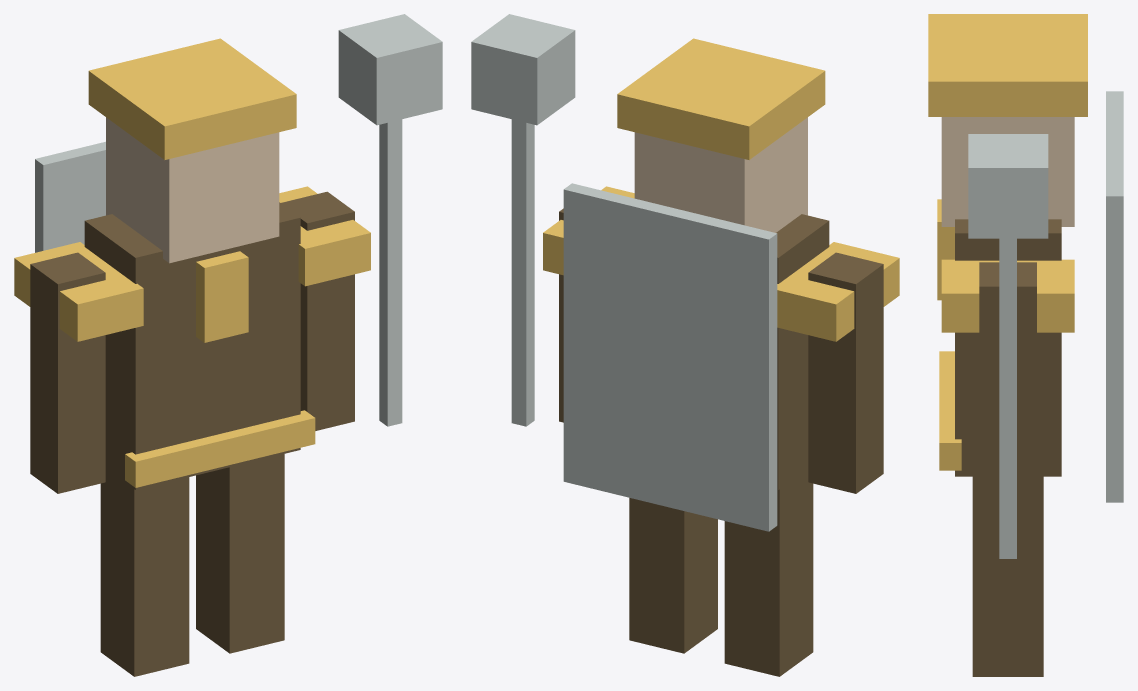
File: 13_thorne_mossguard_captain_under_adaptive.glb
3 views of the same model, side by side, from view 1: azimuth 30°, elevation 25°; view 2: azimuth 150°, elevation 25°; view 3: azimuth 270°, elevation 25° (orthographic). The views are drawn at different scales.
Parts seen in each view (by area): view 1: Thorne Mossguard, Captain under Adaptive; view 2: Thorne Mossguard, Captain under Adaptive; view 3: Thorne Mossguard, Captain under Adaptive.
Part boxes in pixels (x1,y1,x2,y2): Thorne Mossguard, Captain under Adaptive: (14,14,442,676); Thorne Mossguard, Captain under Adaptive: (471,14,899,676); Thorne Mossguard, Captain under Adaptive: (928,14,1123,676).
Size of the model in its own units: 1.09 by 1.54 by 0.4615.
